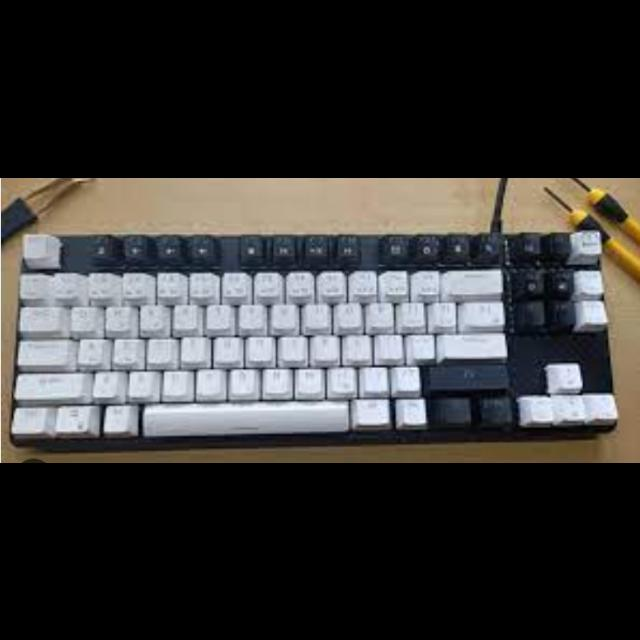Computer-Keyboard: (10, 229, 617, 446)
